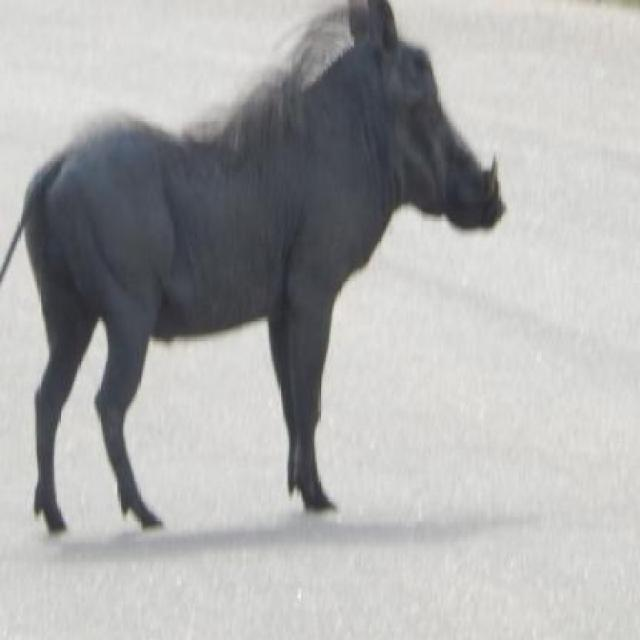pig: (0, 0, 508, 534)
